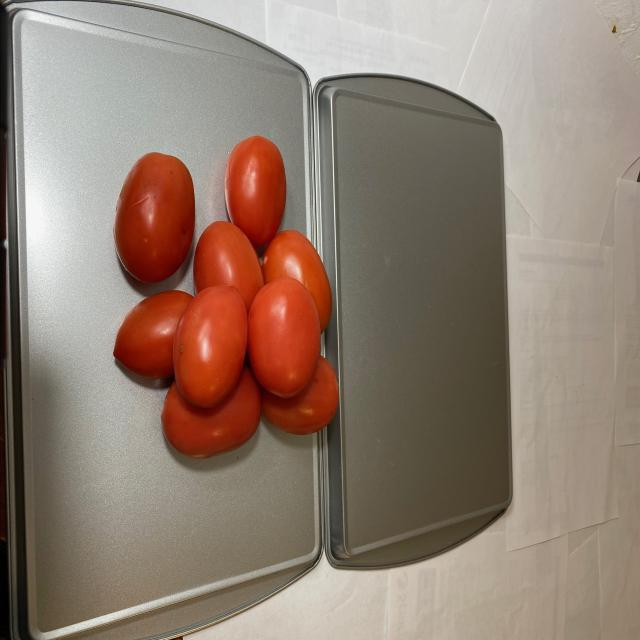tomato: (110, 129, 338, 483)
